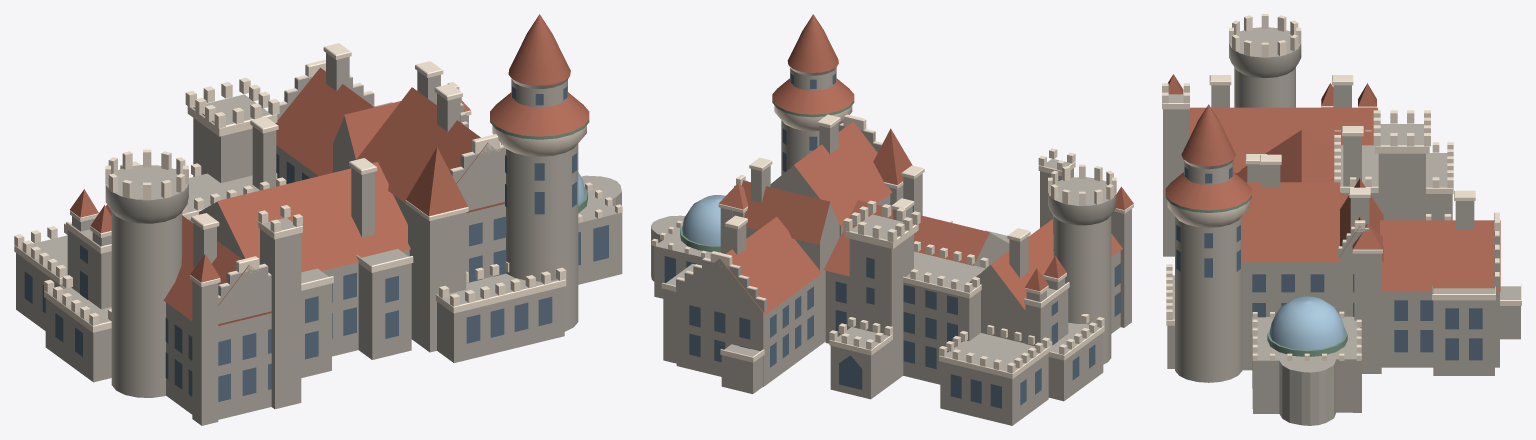
File: tor-casa-loma.glb
The picture shows the model from 3 angles, left to right: view 1: azimuth 30°, elevation 25°; view 2: azimuth 150°, elevation 25°; view 3: azimuth 270°, elevation 25°; orthographic projection. The views are drawn at different scales.
Parts seen in each view (by area): view 1: Casa Loma; view 2: Casa Loma; view 3: Casa Loma.
Part boxes in pixels (left/top/right/bottom): Casa Loma: left=14, top=14, right=622, bottom=425; Casa Loma: left=651, top=14, right=1133, bottom=425; Casa Loma: left=1162, top=14, right=1521, bottom=425.
Bounding box in the file's own units: 74.75 × 40.6 × 50.1.
